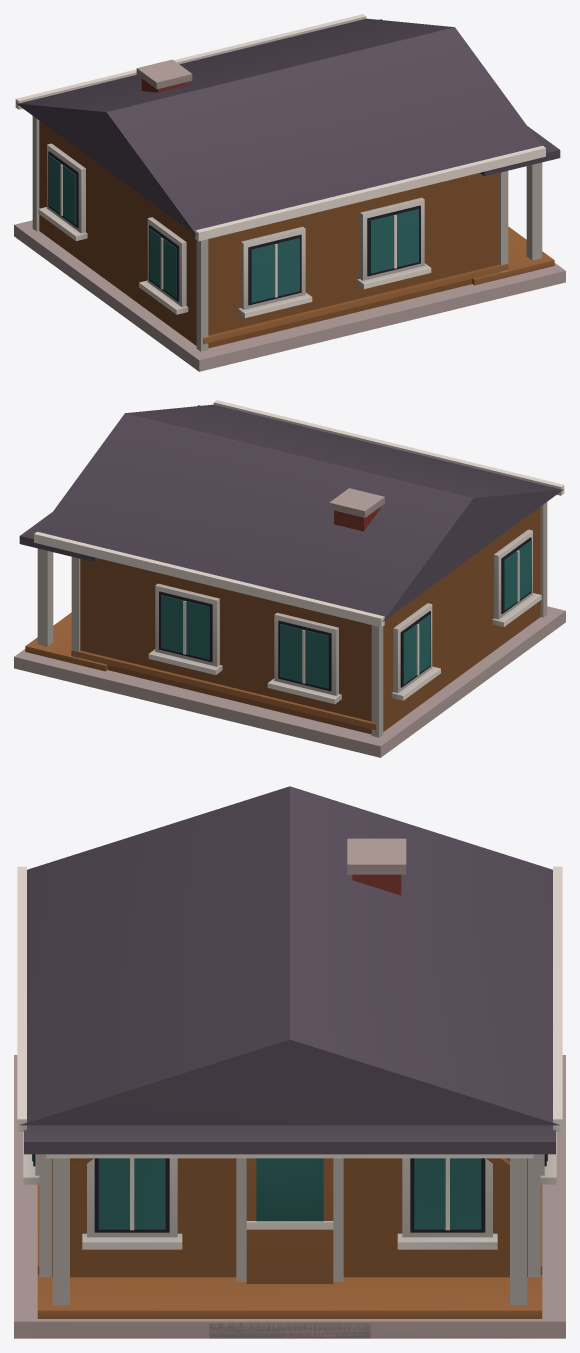
The model's file is bld.park-lodge.lod2.glb.
3 views of the same model, one above another, from view 1: azimuth 30°, elevation 25°; view 2: azimuth 150°, elevation 25°; view 3: azimuth 270°, elevation 25° (orthographic). The views are drawn at different scales.
Visible parts, largest first — view 1: body, roof; view 2: body, roof; view 3: roof, body.
Part boxes in pixels (<box>): body: <box>14,14,565,371</box>; roof: <box>16,18,560,235</box>; body: <box>14,400,565,757</box>; roof: <box>19,404,563,621</box>; roof: <box>20,786,559,1154</box>; body: <box>14,838,565,1338</box>.
Bounding box in the file's own units: 8 × 4 × 7.
